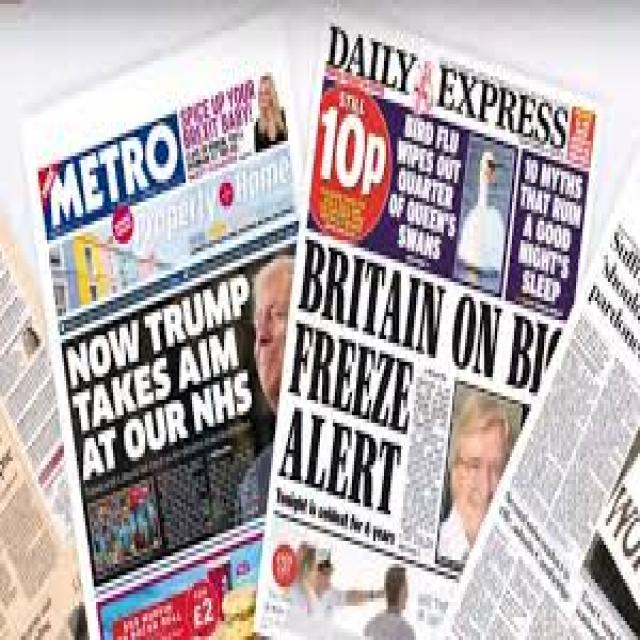paper: (256, 12, 599, 637), (22, 27, 293, 636), (437, 160, 638, 636), (0, 224, 85, 636)
